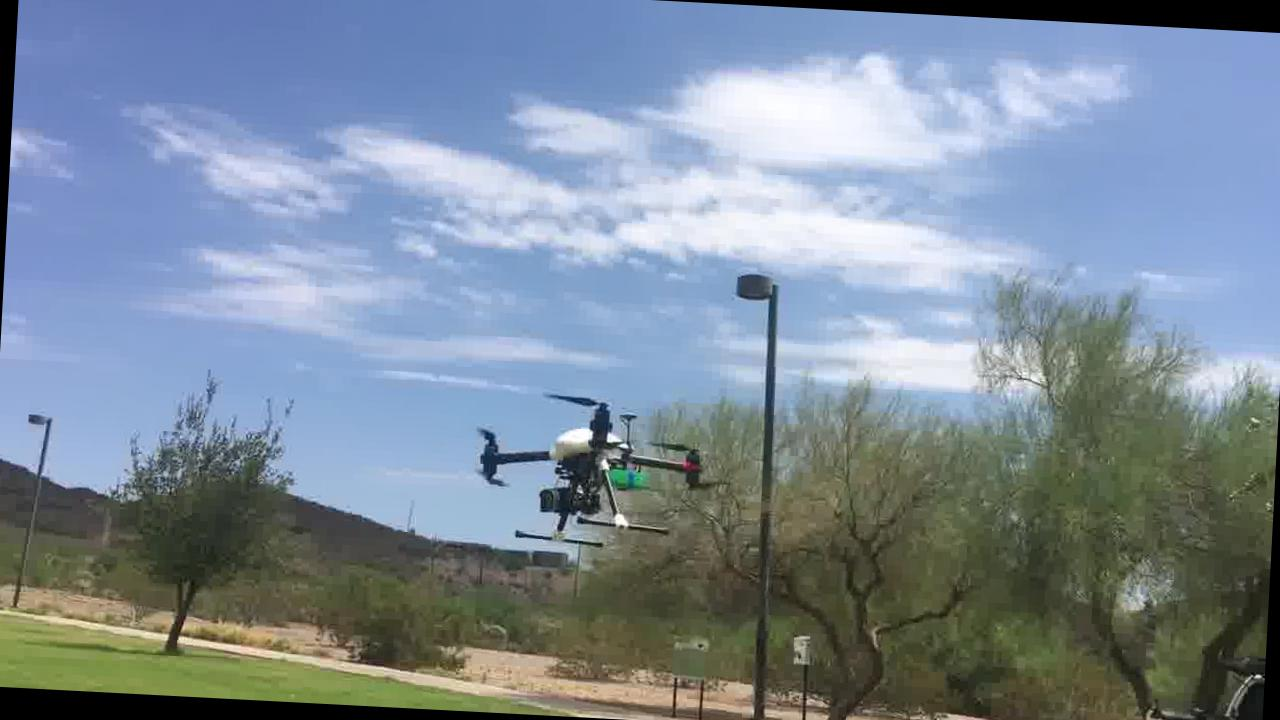drone: (466, 386, 714, 554)
